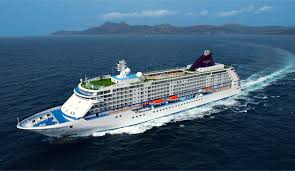tau_dansu: (19, 59, 249, 133)
